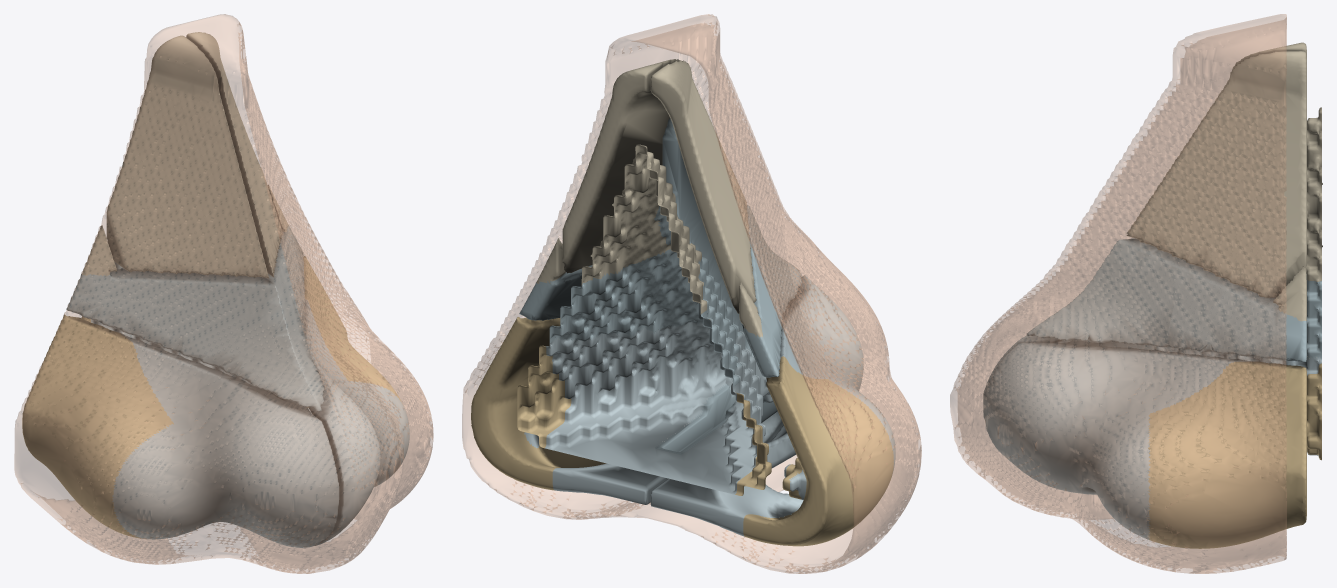
The model's file is nariz.glb.
3 views of the same model, side by side, from view 1: azimuth 30°, elevation 25°; view 2: azimuth 150°, elevation 25°; view 3: azimuth 270°, elevation 25° (orthographic). The views are drawn at different scales.
Parts seen in each view (by area): view 1: skin, nasal_bone_R, lateral_crus_R, fibrofatty_R, upper_lateral_R, alar_dome_R, alar_dome_L, lateral_crus_L, nasal_bone_L, upper_lateral_L, fibrofatty_L, medial_crus_R (+1 smaller); view 2: skin, lateral_crus_L, fibrofatty_R, lateral_crus_R, nasal_bone_L, nasal_bone_R, fibrofatty_L, upper_lateral_L, upper_lateral_R, septal_cartilage, alar_dome_R, maxilla_fp_R (+2 smaller); view 3: skin, nasal_bone_L, fibrofatty_L, upper_lateral_L, lateral_crus_L, alar_dome_L, maxilla_fp_L, nasal_bone_R, medial_crus_L.
Boxes of the visible parts, left/top/right/bottom form: skin: left=14, top=14, right=433, bottom=573; nasal_bone_R: left=106, top=35, right=268, bottom=278; lateral_crus_R: left=91, top=319, right=260, bottom=539; fibrofatty_R: left=22, top=314, right=173, bottom=538; upper_lateral_R: left=66, top=262, right=320, bottom=411; alar_dome_R: left=222, top=388, right=339, bottom=540; alar_dome_L: left=309, top=370, right=379, bottom=514; lateral_crus_L: left=305, top=299, right=409, bottom=486; nasal_bone_L: left=186, top=32, right=282, bottom=276; upper_lateral_L: left=265, top=226, right=324, bottom=410; fibrofatty_L: left=303, top=256, right=402, bottom=407; medial_crus_R: left=271, top=514, right=337, bottom=547; skin: left=462, top=14, right=921, bottom=573; lateral_crus_L: left=545, top=321, right=732, bottom=504; fibrofatty_R: left=735, top=356, right=893, bottom=546; lateral_crus_R: left=640, top=308, right=895, bottom=536; nasal_bone_L: left=562, top=59, right=679, bottom=285; nasal_bone_R: left=640, top=60, right=756, bottom=319; fibrofatty_L: left=471, top=317, right=606, bottom=490; upper_lateral_L: left=519, top=205, right=747, bottom=344; upper_lateral_R: left=698, top=205, right=801, bottom=386; septal_cartilage: left=654, top=118, right=777, bottom=454; alar_dome_R: left=772, top=275, right=858, bottom=452; maxilla_fp_R: left=739, top=282, right=762, bottom=337; skin: left=950, top=14, right=1286, bottom=573; nasal_bone_L: left=1126, top=51, right=1322, bottom=297; fibrofatty_L: left=1148, top=361, right=1321, bottom=548; upper_lateral_L: left=1027, top=239, right=1321, bottom=362; lateral_crus_L: left=1026, top=347, right=1321, bottom=539; alar_dome_L: left=983, top=342, right=1107, bottom=491; maxilla_fp_L: left=1273, top=266, right=1306, bottom=321; nasal_bone_R: left=1126, top=42, right=1321, bottom=233; medial_crus_L: left=986, top=427, right=1096, bottom=494.
Bounding box in the file's own units: 0.0515 × 0.0646 × 0.0449.
